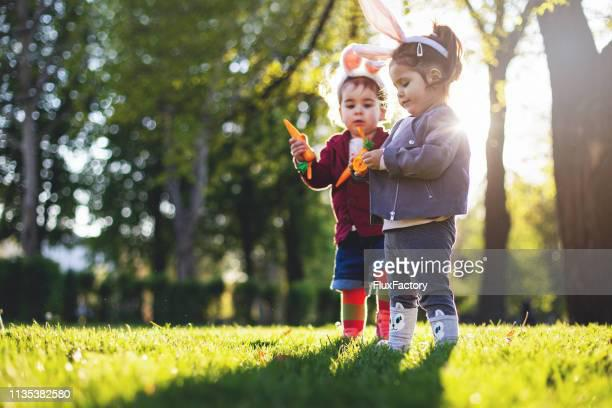child: (363, 19, 481, 357), (282, 55, 403, 350)
